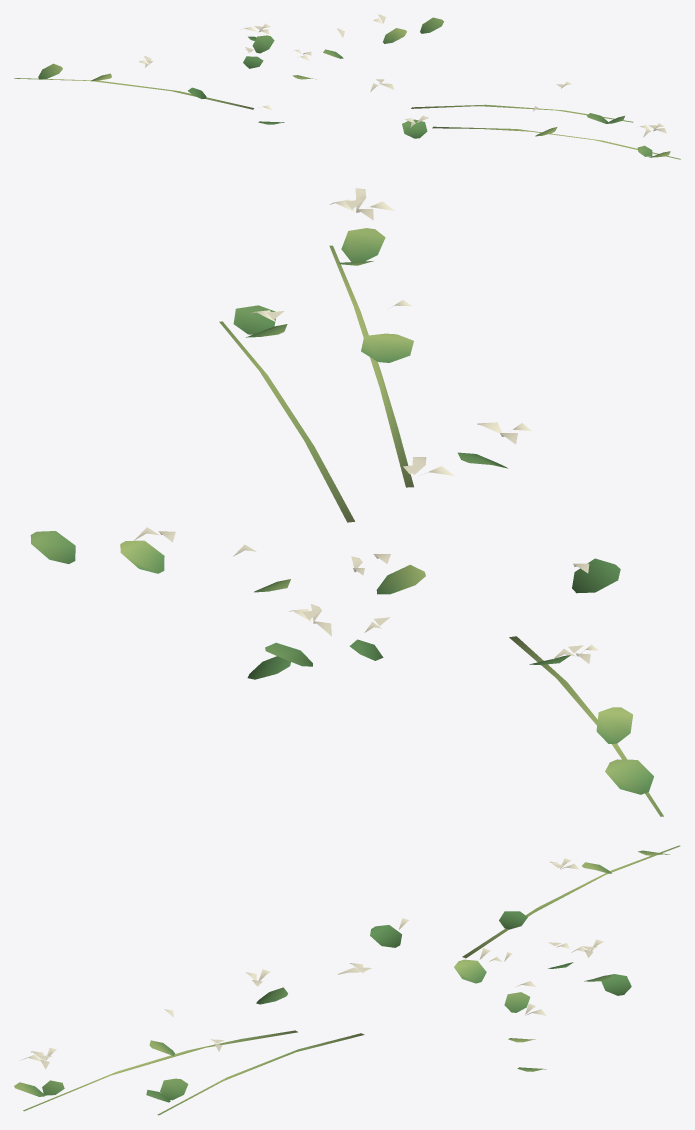
Rendered from ChickweedMat_LOD1.glb.
3 renders of one model, top to bottom at view 1: azimuth 30°, elevation 25°; view 2: azimuth 150°, elevation 25°; view 3: azimuth 270°, elevation 25°, orthographic. The views are drawn at different scales.
Parts seen in each view (by area): view 1: ChickweedMat_LOD1; view 2: ChickweedMat_LOD1; view 3: ChickweedMat_LOD1.
Boxes of the visible parts, <box> form: ChickweedMat_LOD1: <box>14,14,680,159</box>; ChickweedMat_LOD1: <box>30,188,663,816</box>; ChickweedMat_LOD1: <box>14,845,680,1115</box>.
Bounding box in the file's own units: 0.2802 × 0.0276 × 0.2932.
